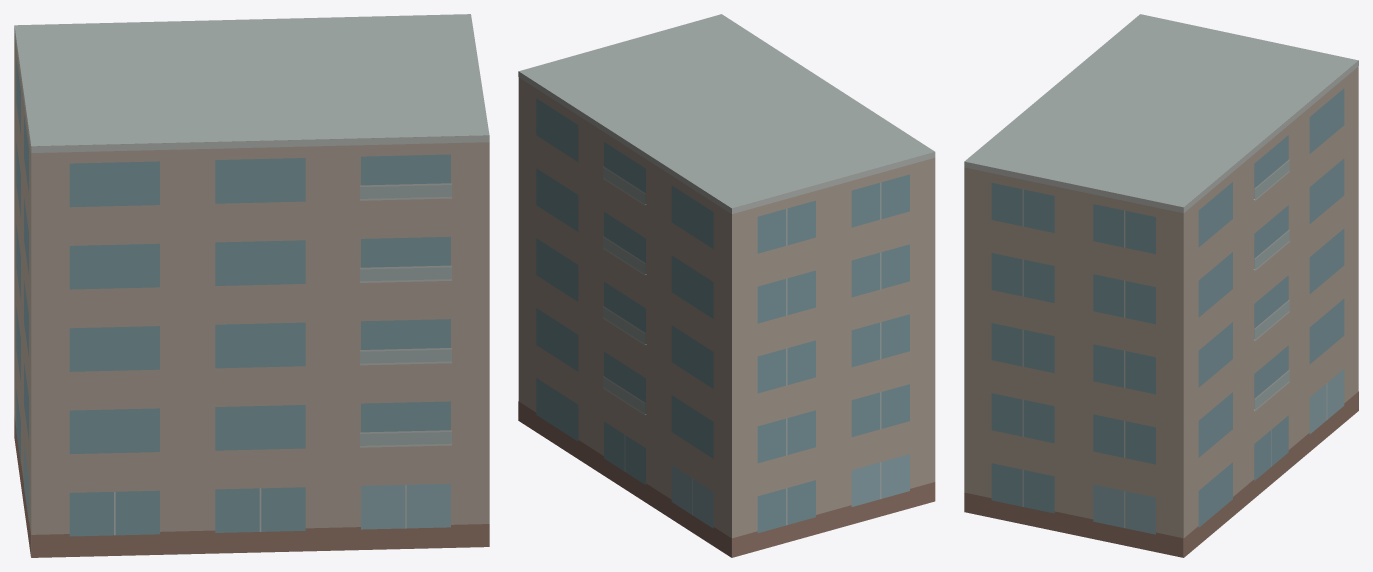
File: survey-upis-32854326.glb
3 renders of one model, left to right at view 1: azimuth 30°, elevation 25°; view 2: azimuth 150°, elevation 25°; view 3: azimuth 270°, elevation 25°, orthographic. The views are drawn at different scales.
Visible parts, largest first — view 1: survey-upis-32854326.tmp; view 2: survey-upis-32854326.tmp; view 3: survey-upis-32854326.tmp.
Boxes of the visible parts, x1,y1,x2,y2 form: survey-upis-32854326.tmp: (14,14,489,557); survey-upis-32854326.tmp: (518,14,935,557); survey-upis-32854326.tmp: (964,14,1358,557).
Bounding box in the file's own units: 17.34 × 14.65 × 14.95.
